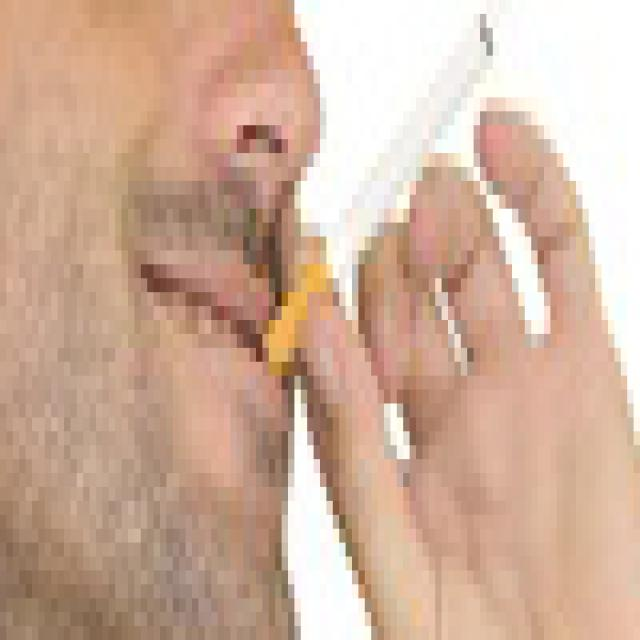smoking: (263, 11, 497, 379)
